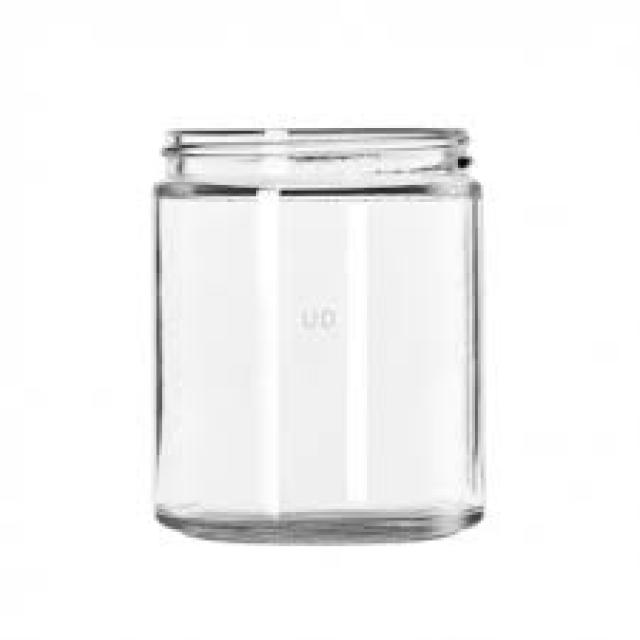glass: (154, 128, 487, 538)
